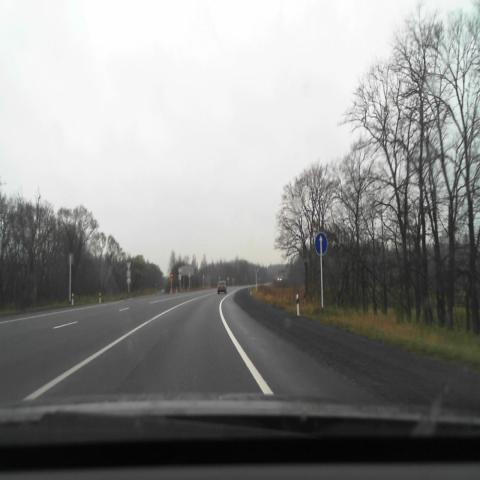4_1_1: (314, 232, 328, 255)
